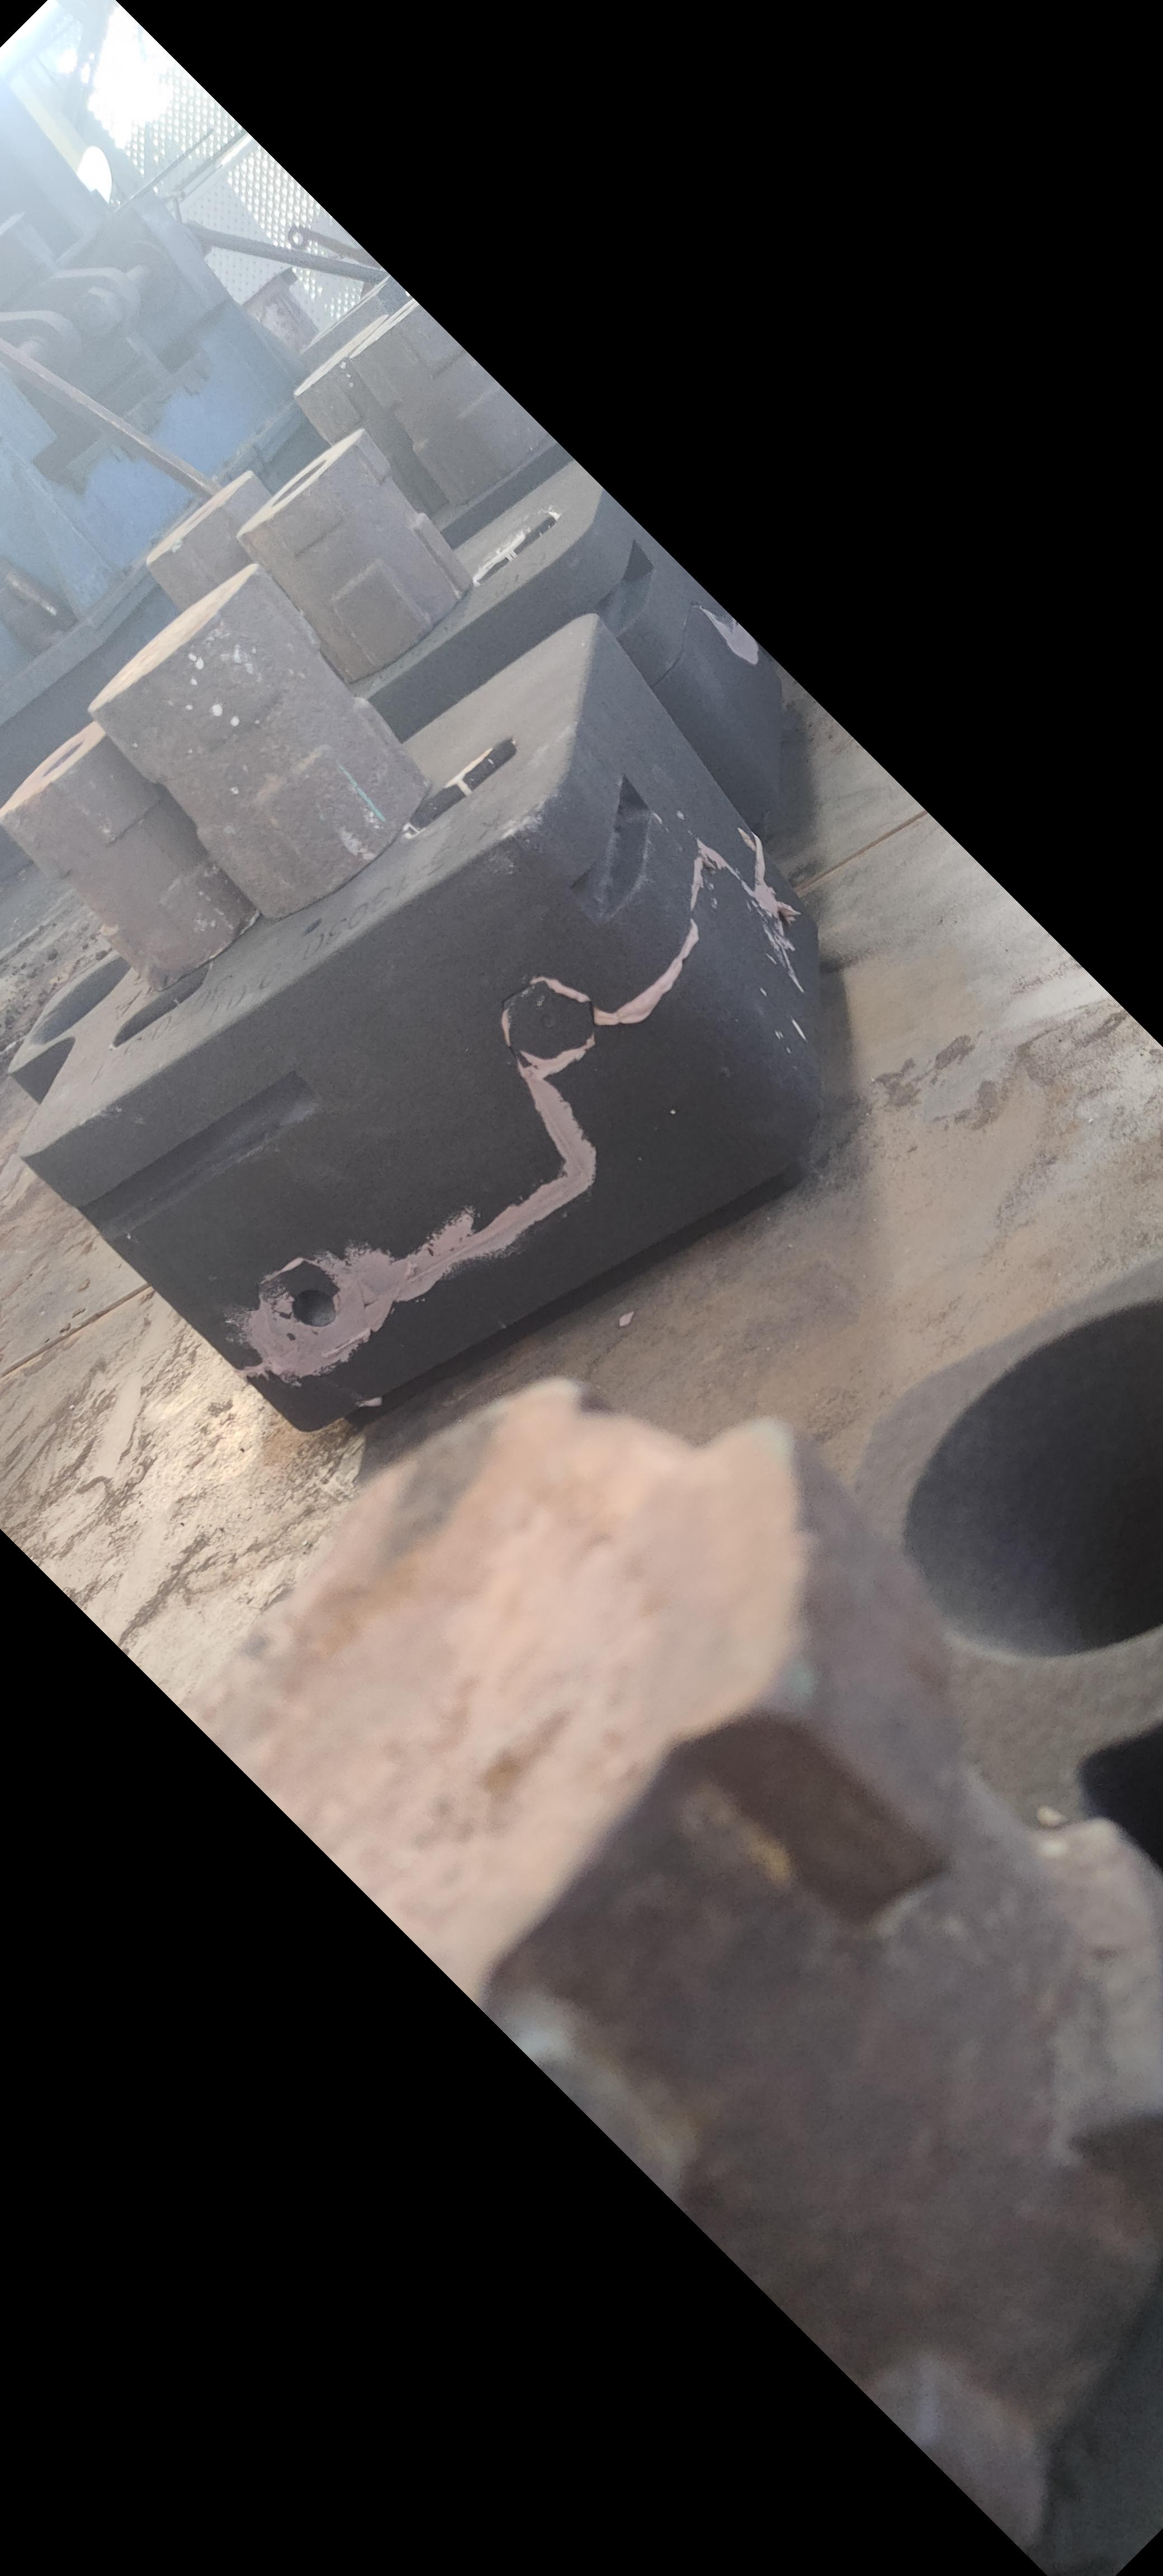pouring hole: (900, 1298, 1163, 1656), (20, 956, 133, 1048)
